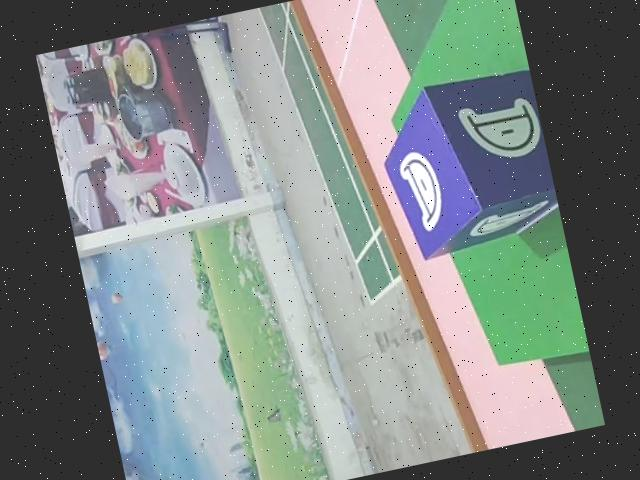R2 Real Blue: (366, 64, 564, 267)
